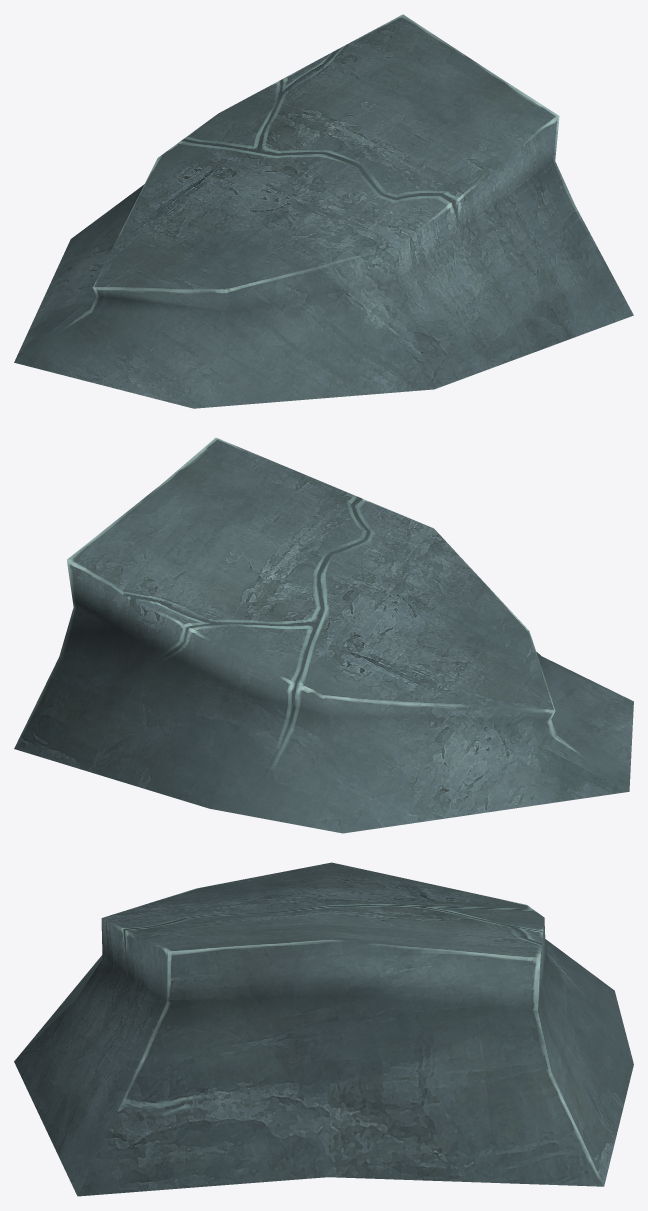
The model's file is Rock_5.fbx.
3 renders of one model, top to bottom at view 1: azimuth 30°, elevation 25°; view 2: azimuth 150°, elevation 25°; view 3: azimuth 270°, elevation 25°, orthographic. The views are drawn at different scales.
Parts seen in each view (by area): view 1: pPlane1; view 2: pPlane1; view 3: pPlane1.
Boxes of the visible parts, x1=… form: pPlane1: x1=14, y1=14, x2=633, y2=408; pPlane1: x1=14, y1=437, x2=633, y2=833; pPlane1: x1=14, y1=862, x2=633, y2=1196.
Bounding box in the file's own units: 6.12 × 2.11 × 5.22.
